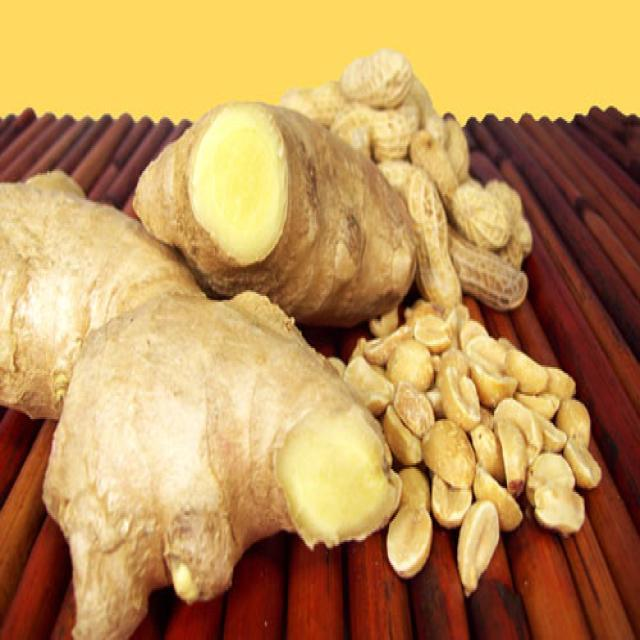ginger: (0, 172, 397, 637), (133, 103, 416, 324)
